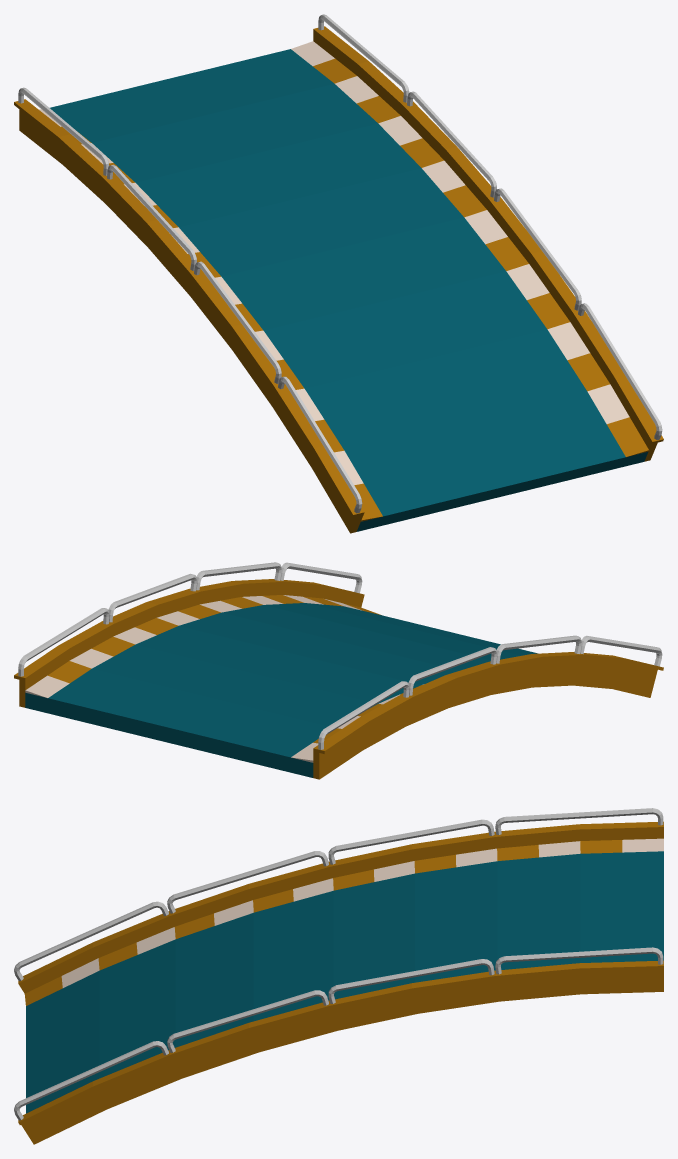
The model's file is descent-30_m.FBX.
3 views of the same model, one above another, from view 1: azimuth 30°, elevation 25°; view 2: azimuth 150°, elevation 25°; view 3: azimuth 270°, elevation 25° (orthographic). The views are drawn at different scales.
Visible parts, largest first — view 1: descent-30_m, wall_r, wall_l, curbs_l, curbs_r; view 2: descent-30_m, wall_r, wall_l, curbs_l, curbs_r; view 3: descent-30_m, wall_l, wall_r, curbs_r.
Part boxes in pixels (box(x1,y1,x2,y2)): descent-30_m: box(50, 49, 648, 531); wall_r: box(14, 87, 364, 533); wall_l: box(313, 14, 663, 461); curbs_l: box(291, 41, 648, 456); curbs_r: box(39, 109, 382, 521); descent-30_m: box(25, 603, 537, 777); wall_r: box(313, 635, 663, 779); wall_l: box(14, 562, 364, 707); curbs_l: box(25, 595, 381, 697); curbs_r: box(291, 684, 423, 762); descent-30_m: box(26, 851, 663, 1113); wall_l: box(14, 947, 663, 1144); wall_r: box(14, 808, 663, 993); curbs_r: box(24, 838, 663, 1005).
Size of what is drawn, in the model's own units: 207 by 132 by 394.
